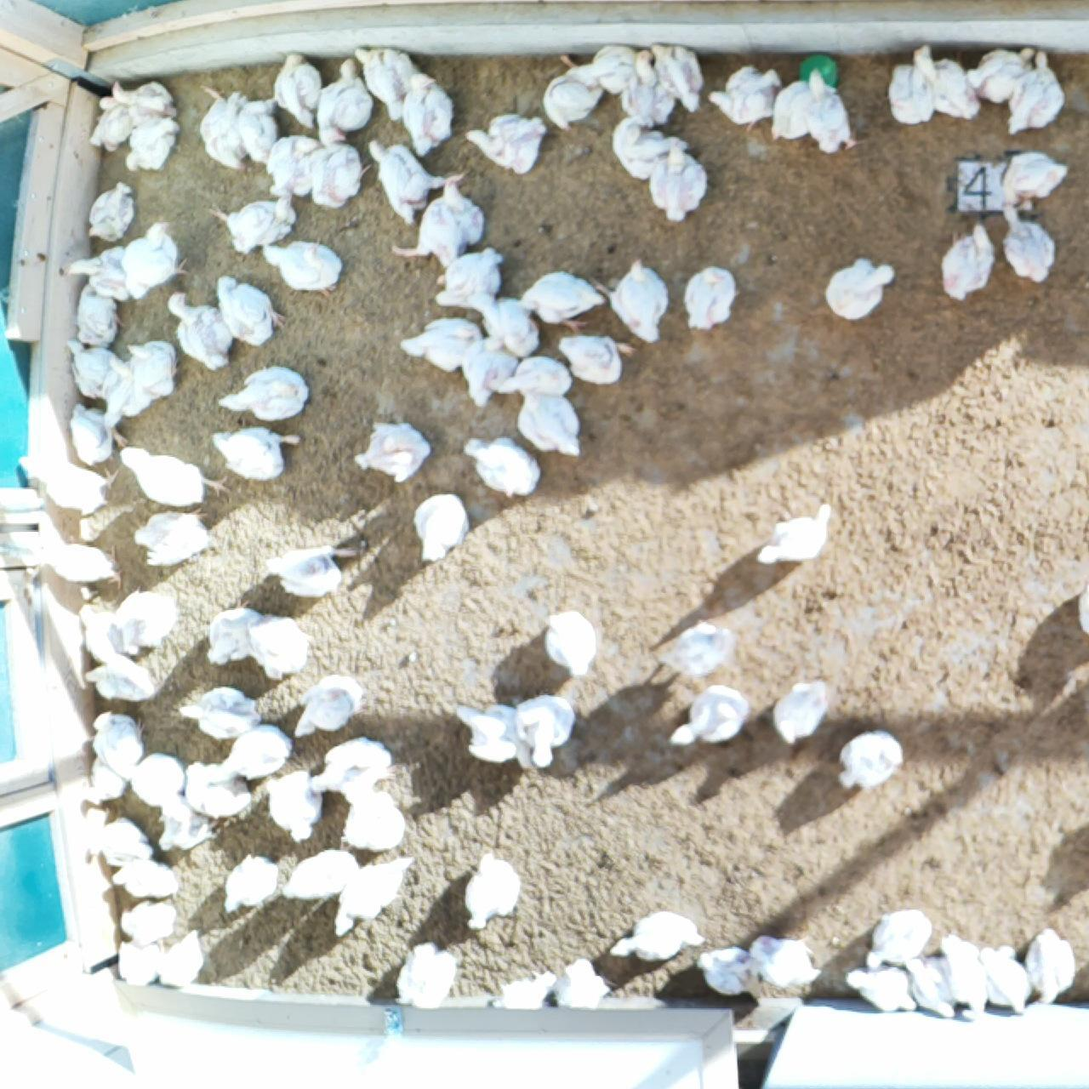chicken: (398, 177, 488, 269), (118, 443, 228, 512), (336, 852, 415, 938), (755, 501, 835, 579), (669, 682, 755, 753), (15, 456, 115, 517), (993, 197, 1055, 291), (311, 736, 398, 801), (368, 141, 439, 219), (463, 433, 544, 500), (460, 851, 524, 935), (801, 70, 858, 164), (286, 673, 368, 738), (646, 143, 711, 223), (826, 251, 896, 325), (437, 243, 507, 317), (661, 613, 737, 681), (609, 912, 706, 965), (121, 218, 182, 302), (220, 368, 313, 423), (217, 274, 286, 348), (213, 191, 294, 254), (833, 726, 911, 791), (166, 293, 231, 371), (958, 42, 1036, 107), (874, 48, 944, 120), (211, 430, 303, 484), (607, 263, 668, 344), (395, 938, 460, 1014), (467, 109, 544, 173), (937, 221, 996, 304), (512, 695, 577, 770), (1005, 48, 1063, 131), (357, 419, 432, 483), (710, 63, 780, 131), (911, 41, 972, 118), (197, 83, 248, 175), (356, 41, 416, 119), (305, 127, 363, 207), (110, 589, 179, 656), (1000, 144, 1066, 214), (284, 846, 356, 910), (266, 766, 323, 846), (260, 239, 346, 292), (454, 700, 522, 767), (400, 316, 484, 370), (523, 273, 607, 327), (619, 50, 681, 123), (210, 727, 293, 781), (748, 932, 825, 990), (607, 117, 676, 181), (404, 71, 456, 155), (679, 261, 738, 334), (413, 489, 466, 568), (940, 932, 987, 1021), (314, 56, 371, 129), (178, 687, 258, 739), (542, 607, 597, 682), (136, 511, 209, 567), (861, 911, 934, 967), (556, 331, 631, 385), (64, 244, 132, 303), (267, 547, 347, 597), (651, 46, 713, 110), (251, 617, 312, 682), (340, 793, 409, 850), (185, 758, 250, 818), (1024, 928, 1075, 1004), (87, 712, 143, 781), (515, 396, 579, 456), (222, 851, 282, 913), (775, 676, 827, 747), (845, 962, 916, 1014), (693, 942, 755, 1001), (60, 405, 122, 464), (41, 544, 118, 591), (501, 354, 576, 402), (100, 355, 148, 429), (272, 51, 317, 128), (128, 338, 183, 400), (203, 603, 255, 667), (67, 341, 121, 401), (571, 44, 637, 93), (115, 123, 182, 171), (980, 948, 1030, 1012), (546, 67, 596, 131), (266, 131, 316, 195), (483, 298, 538, 356), (94, 815, 154, 868), (906, 953, 954, 1019), (85, 181, 137, 241), (84, 658, 156, 701), (74, 283, 117, 355), (465, 338, 509, 408), (158, 931, 206, 992), (554, 959, 610, 1010), (131, 755, 188, 805), (770, 79, 811, 146), (79, 604, 124, 665), (107, 79, 168, 124), (120, 899, 180, 944), (108, 864, 185, 898), (239, 101, 278, 168), (160, 797, 205, 854), (87, 100, 134, 151), (494, 974, 560, 1009), (117, 941, 161, 989), (84, 758, 121, 807), (1069, 575, 1089, 647)
